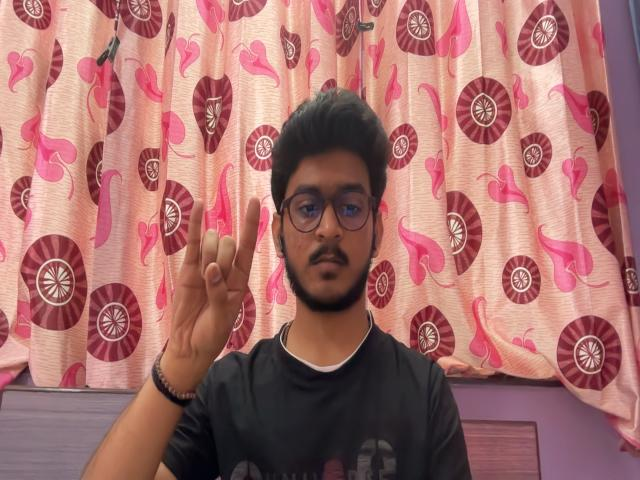I Love You: (163, 184, 270, 370)
